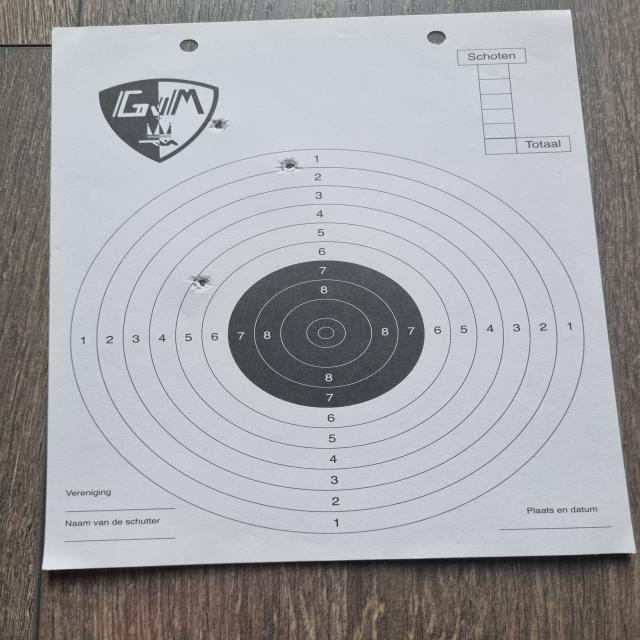0: (208, 117, 231, 132)
2: (278, 158, 298, 172)
5: (189, 274, 213, 292)
Target: (71, 149, 585, 534)
black_contour: (228, 261, 424, 408)
